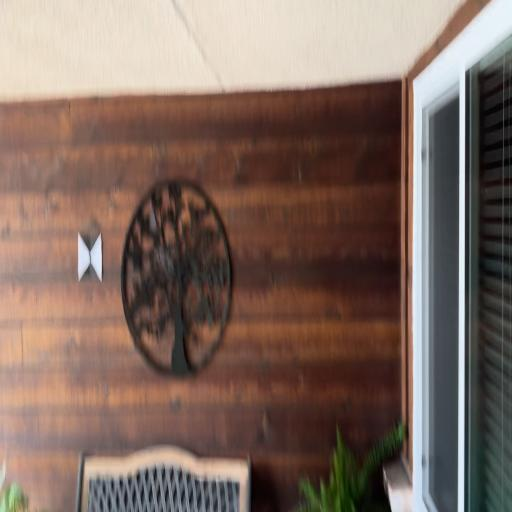target: (78, 234, 102, 279)
